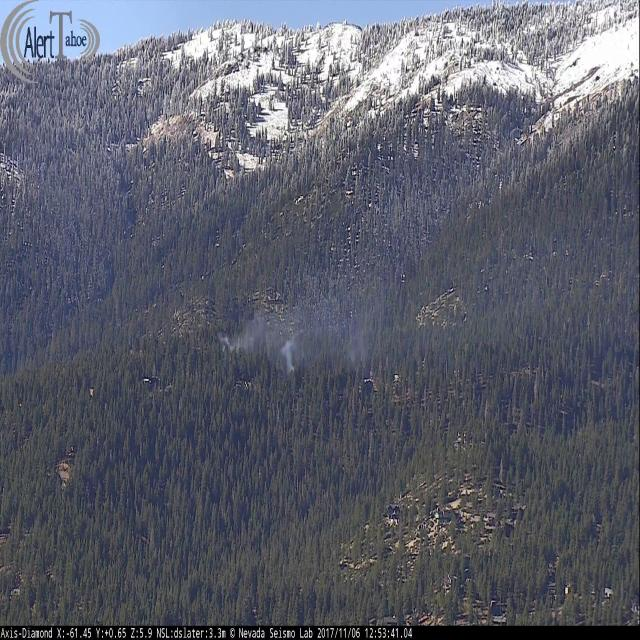smoke: (218, 124, 640, 377)
